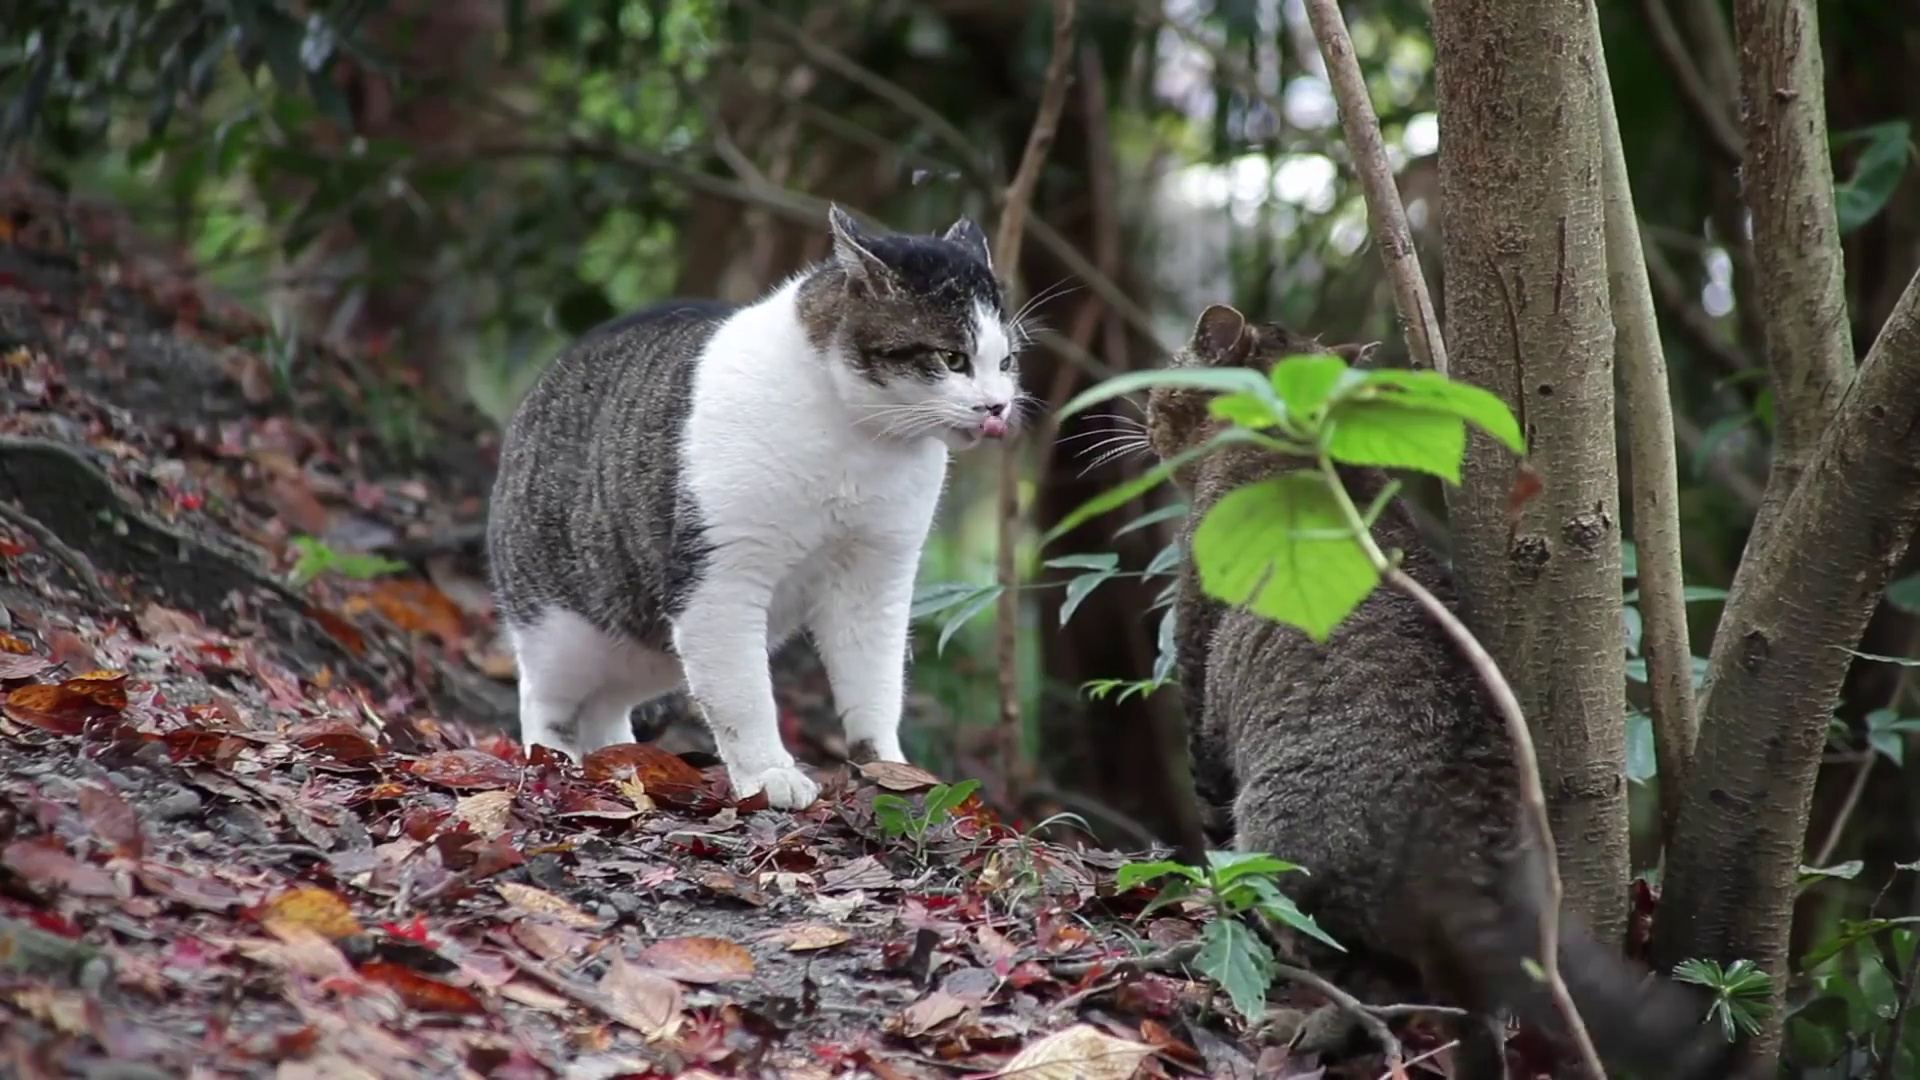black-white: (485, 200, 1017, 808)
pure black: (1147, 303, 1553, 992)
